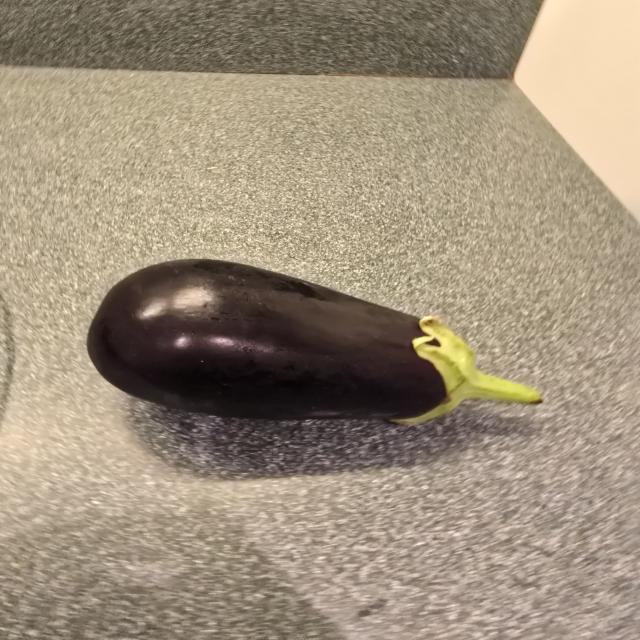Eggplant: (74, 247, 564, 436)
